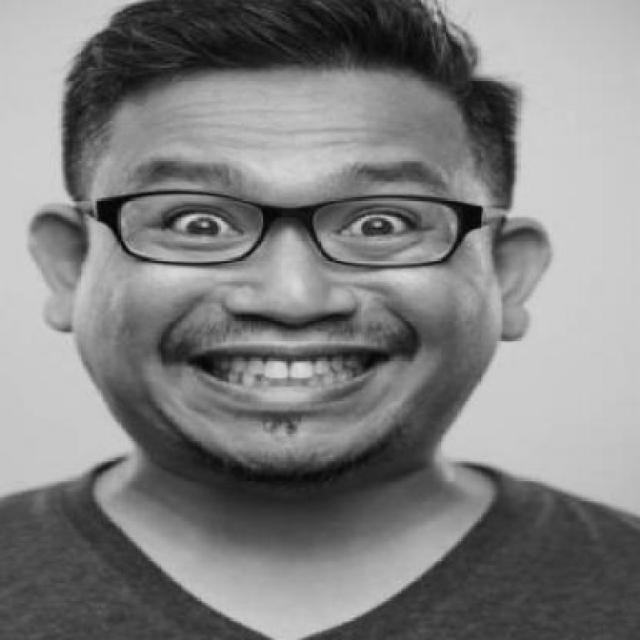Happy: (121, 146, 448, 409)
